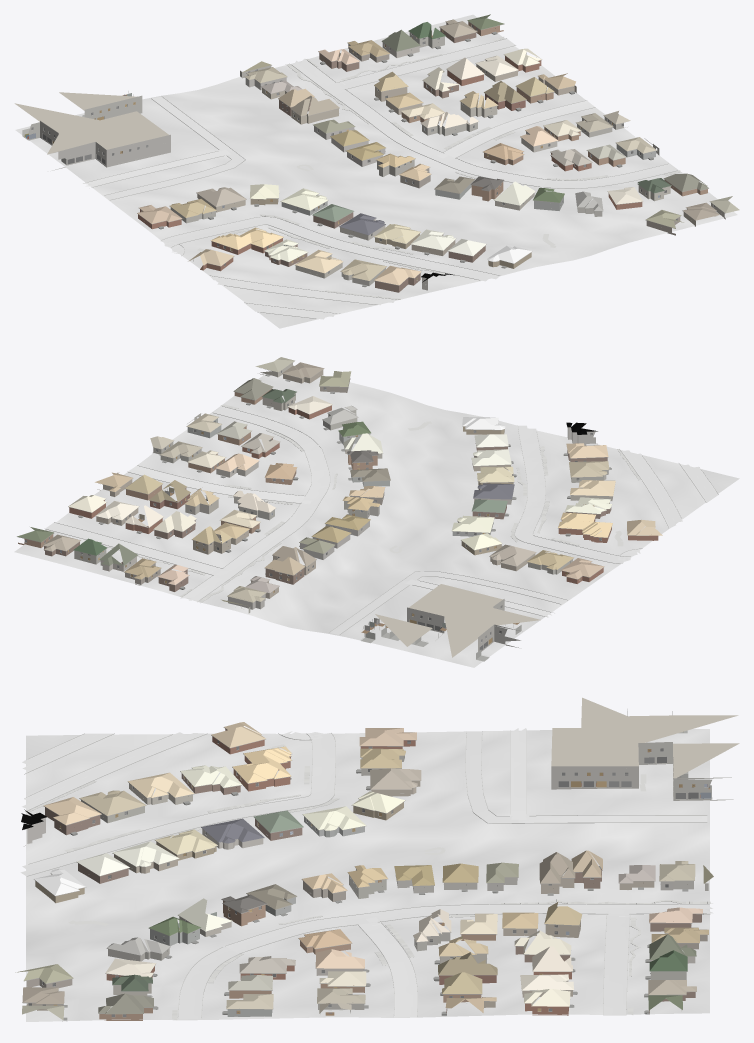
3 views of the same model, one above another, from view 1: azimuth 30°, elevation 25°; view 2: azimuth 150°, elevation 25°; view 3: azimuth 270°, elevation 25° (orthographic). The views are drawn at different scales.
Parts seen in each view (by area): view 1: ground, roof, concrete, wall, wall_stucco, roof_flat, curb, detail, wall_com, walk, asphalt, wall_stone (+1 smaller); view 2: ground, roof, concrete, wall, wall_stucco, roof_flat, detail, curb, asphalt, walk, wall_stone, wall_com (+2 smaller); view 3: ground, roof, concrete, wall, roof_flat, wall_stucco, detail, curb, asphalt, wall_com, walk, wall_stone (+2 smaller).
Part boxes in pixels (box(x1,y1,x2,y2)): ground: box(15, 14, 737, 328); roof: box(137, 14, 739, 285); concrete: box(82, 39, 676, 281); wall: box(138, 22, 715, 292); wall_stucco: box(170, 32, 725, 285); roof_flat: box(14, 92, 168, 154); curb: box(83, 38, 679, 318); detail: box(30, 20, 724, 287); wall_com: box(28, 95, 170, 170); walk: box(197, 36, 680, 299); asphalt: box(210, 276, 394, 319); wall_stone: box(245, 75, 427, 290); ground: box(14, 371, 739, 667); roof: box(17, 357, 662, 606); concrete: box(45, 406, 640, 634); wall: box(18, 370, 658, 591); wall_stucco: box(74, 363, 612, 613); roof_flat: box(375, 584, 540, 657); detail: box(17, 361, 648, 656); curb: box(45, 406, 718, 634); asphalt: box(621, 450, 718, 528); walk: box(46, 404, 640, 602); wall_stone: box(228, 427, 597, 609); wall_com: box(407, 599, 520, 651); ground: box(26, 729, 709, 1021); roof: box(15, 722, 713, 1020); concrete: box(20, 728, 713, 1019); wall: box(26, 729, 707, 1020); roof_flat: box(551, 697, 739, 778); wall_stucco: box(62, 756, 708, 1021); detail: box(22, 727, 710, 1020); curb: box(24, 729, 712, 1018); asphalt: box(22, 732, 205, 809); wall_com: box(551, 709, 733, 800); walk: box(26, 744, 710, 1020); wall_stone: box(23, 818, 693, 893).
Size of the model in its own units: 265 by 15.78 by 265.
